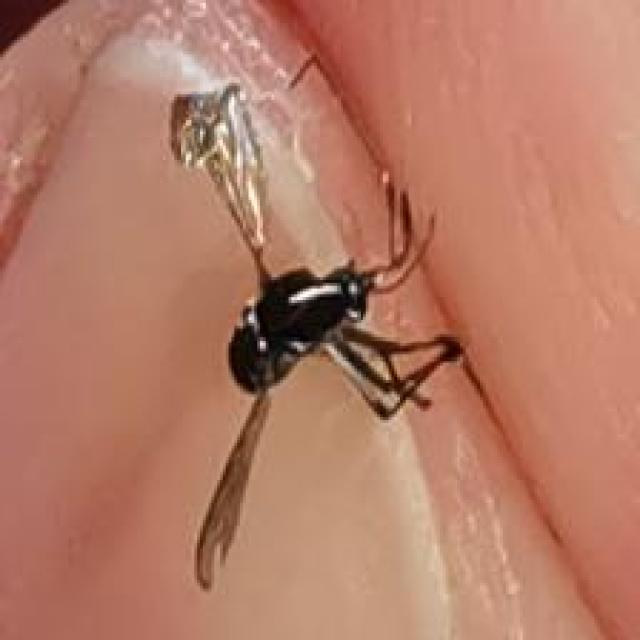Aedes albopictus: (165, 80, 468, 591)
